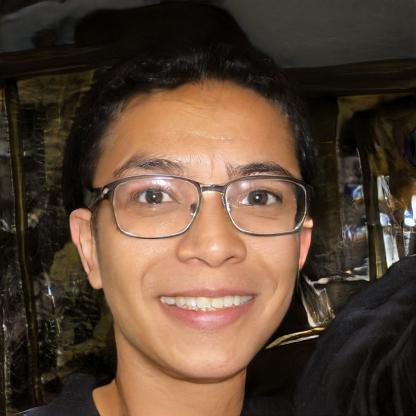glasses: (104, 172, 312, 243)
